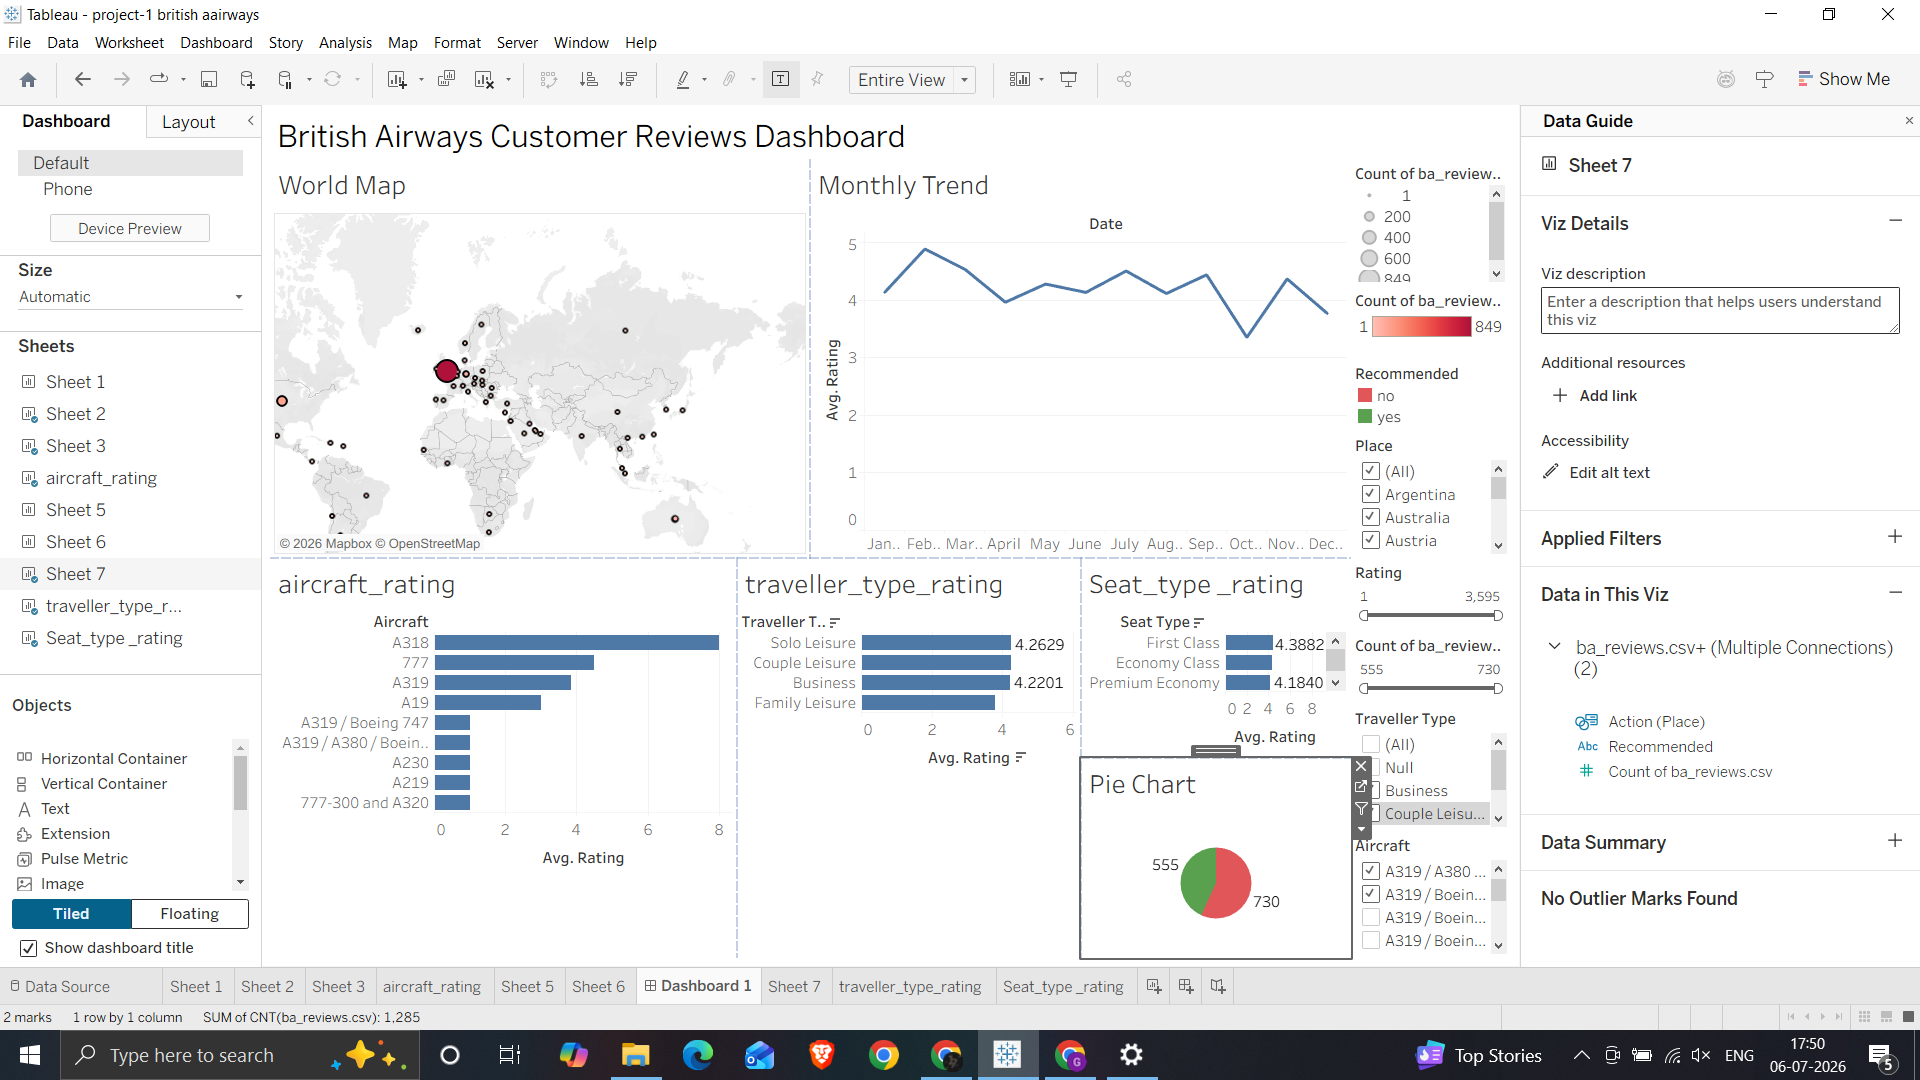

This screenshot's page, from the dashboard's own definition file:
{"tool":"tableau","page":{"name":"Dashboard 1","canvas":[1000,1000],"units":"permille","ordinal":0},"visuals":[{"type":"title","box":[6.4,9.3,987.3,53.4]},{"type":"worksheet","title":"Sheet 2","mark":"Automatic","box":[6.4,62.7,402.9,464]},{"type":"worksheet","title":"Sheet 3","mark":"Automatic","rows":["rating"],"cols":["date"],"box":[409.3,62.7,403,464]},{"type":"legend","title":"Sheet 2","param":"[federated.1be7hdv0ngu5im18qay1v1e32vj3].[__tableau_internal_object_id__].[cnt:b","box":[812.3,62.7,181.4,156.4]},{"type":"legend","title":"Sheet 2","param":"[federated.1be7hdv0ngu5im18qay1v1e32vj3].[__tableau_internal_object_id__].[cnt:b","box":[812.3,219.1,181.4,84.8]},{"type":"legend","title":"Sheet 7","param":"[federated.1be7hdv0ngu5im18qay1v1e32vj3].[none:recommended:nk]","box":[812.3,303.9,181.4,83.6]},{"type":"filter","title":"Sheet 2","param":"[federated.1be7hdv0ngu5im18qay1v1e32vj3].[none:place:nk]","box":[812.3,387.5,181.4,120.8]},{"type":"filter","title":"Sheet 2","param":"[federated.1be7hdv0ngu5im18qay1v1e32vj3].[sum:rating:qk]","box":[812.3,508.3,181.4,84.8]},{"type":"worksheet","title":"aircraft_rating","mark":"Automatic","rows":["aircraft"],"cols":["rating"],"box":[6.4,526.7,348.1,464]},{"type":"worksheet","title":"traveller_type_rating","mark":"Automatic","rows":["traveller_type"],"cols":["rating"],"box":[354.5,526.7,256.3,464]},{"type":"worksheet","title":"Seat_type _rating","mark":"Automatic","rows":["seat_type"],"cols":["rating"],"box":[610.8,526.7,201.5,232]},{"type":"filter","title":"Sheet 7","param":"[federated.1be7hdv0ngu5im18qay1v1e32vj3].[__tableau_internal_object_id__].[cnt:b","box":[812.3,593.1,181.4,84.8]},{"type":"filter","title":"traveller_type_rating","param":"[federated.1be7hdv0ngu5im18qay1v1e32vj3].[none:traveller_type:nk]","box":[812.3,677.9,181.4,156.4]},{"type":"worksheet","title":"Sheet 7","mark":"Pie","box":[610.8,758.7,201.5,232]},{"type":"filter","title":"aircraft_rating","param":"[federated.1be7hdv0ngu5im18qay1v1e32vj3].[none:aircraft:nk]","box":[812.3,834.3,181.4,156.4]}]}

Visuals, with their boxes on the dashboard's canvas, which has no fixed pixel size, in thousandths of its width and height (x1, y1, x2, y2). These are canvas units, not pixel positions in the 1920x1080 screenshot, which may show the page scaled, cropped or inside an application window:
title: [6,9,994,63]
"Sheet 2" worksheet: [6,63,409,527]
"Sheet 3" worksheet: [409,63,812,527]
"Sheet 2" legend: [812,63,994,219]
"Sheet 2" legend: [812,219,994,304]
"Sheet 7" legend: [812,304,994,388]
"Sheet 2" filter: [812,388,994,508]
"Sheet 2" filter: [812,508,994,593]
"aircraft_rating" worksheet: [6,527,354,991]
"traveller_type_rating" worksheet: [354,527,611,991]
"Seat_type _rating" worksheet: [611,527,812,759]
"Sheet 7" filter: [812,593,994,678]
"traveller_type_rating" filter: [812,678,994,834]
"Sheet 7" worksheet (Pie marks): [611,759,812,991]
"aircraft_rating" filter: [812,834,994,991]
